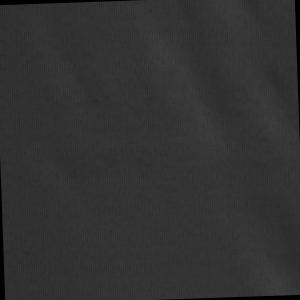Wrinkle: (128, 1, 300, 300)
